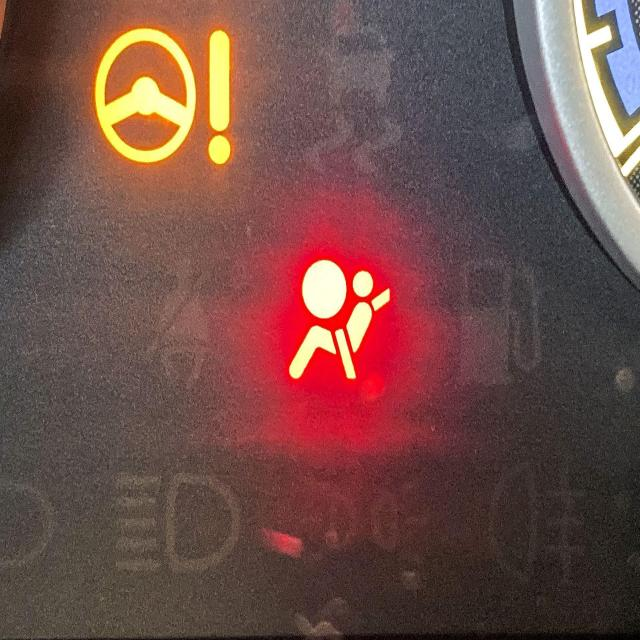kontrolka: (76, 12, 254, 182), (273, 235, 404, 406)
